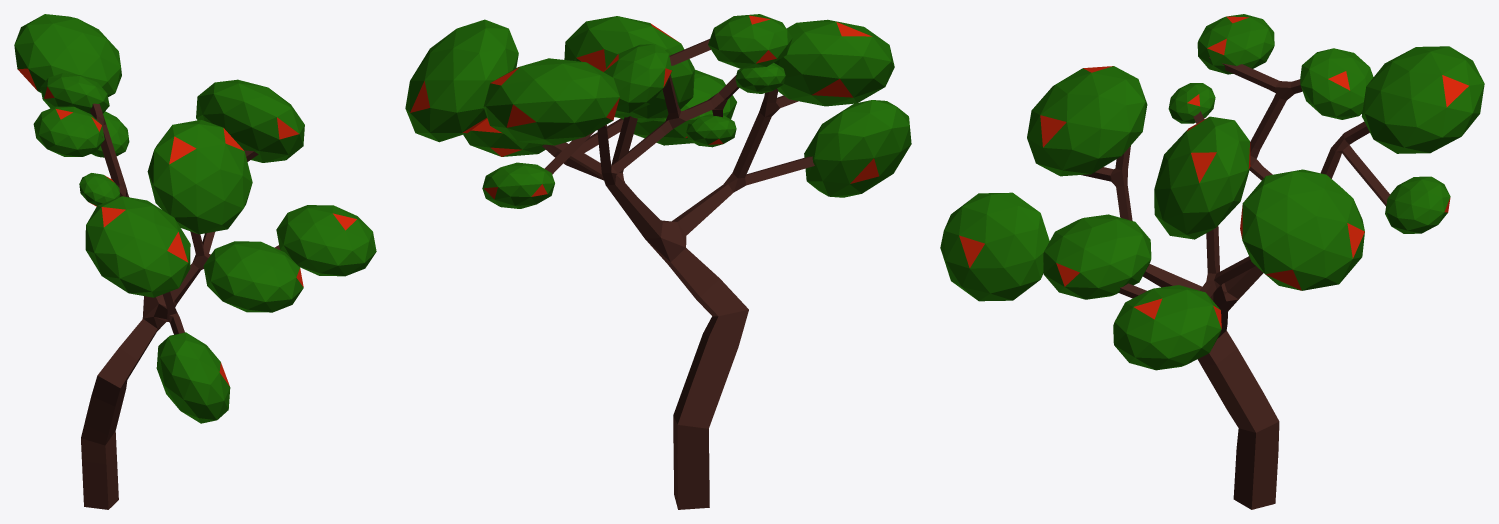
Rendered from BerryTree.fbx.
The picture shows the model from 3 angles, left to right: view 1: azimuth 30°, elevation 25°; view 2: azimuth 150°, elevation 25°; view 3: azimuth 270°, elevation 25°; orthographic projection. The views are drawn at different scales.
Visible parts, largest first — view 1: Icosphere.011, Cube; view 2: Icosphere.011, Cube; view 3: Icosphere.011, Cube.
Boxes of the visible parts, x1,y1,x2,y2 form: Icosphere.011: (14, 14, 376, 423); Cube: (81, 103, 280, 509); Icosphere.011: (405, 14, 911, 208); Cube: (542, 39, 814, 509); Icosphere.011: (940, 14, 1484, 370); Cube: (1081, 57, 1390, 509).
Size of the model in its own units: 12812 by 16108 by 17007.
